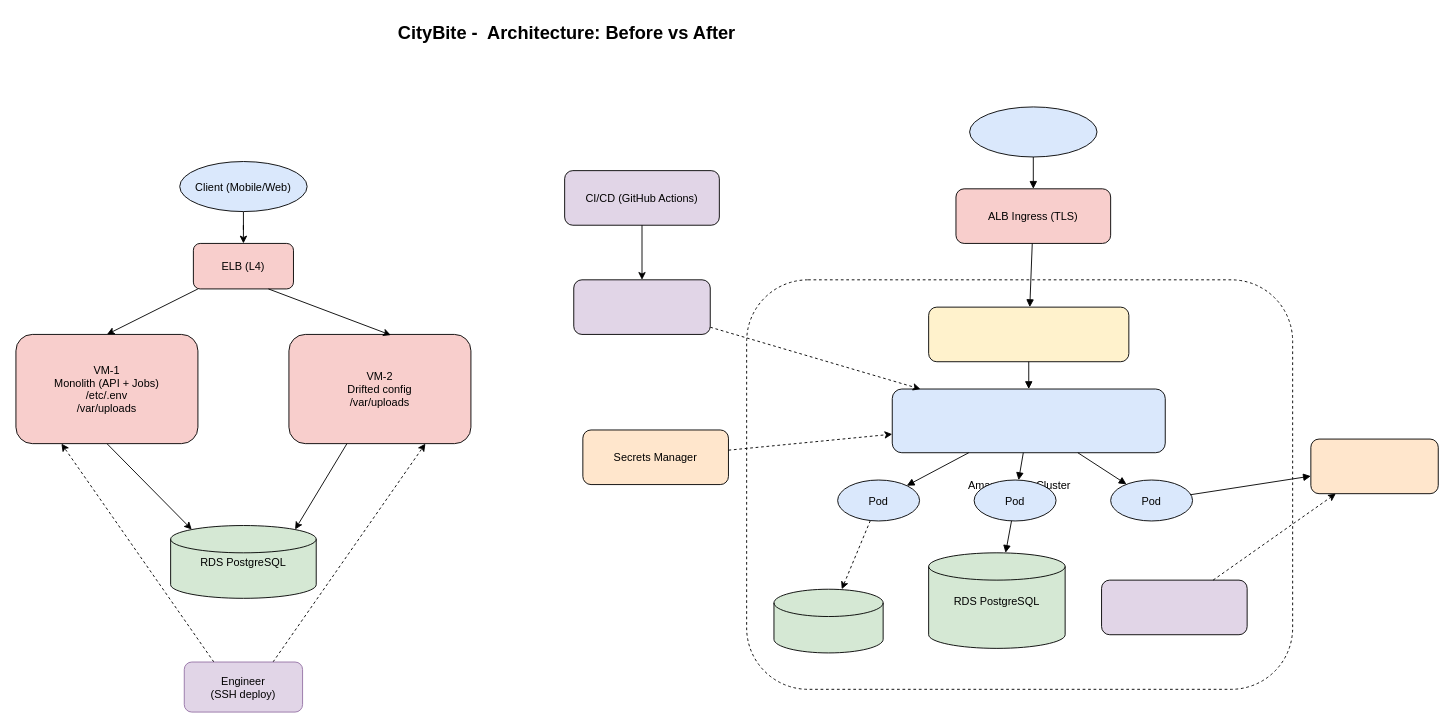
This 1454x728 diagram has some shape labels left out. Here are the shapes that lost their labels. From the top down, the centre of each, then its label:
At (1033,131): "Client".
At (641,306): "ECR (image: sha256)".
At (1028,334): "Service (ClusterIP :80 -> targetPort 8000)".
At (1028,420): "Deployment (replicas=3) HPA 2–6 (CPU 70%) Rolling update".
At (1374,466): "SQS Queue".
At (828,620): "S3 (uploads)".
At (1174,607): "Worker Deployment".
